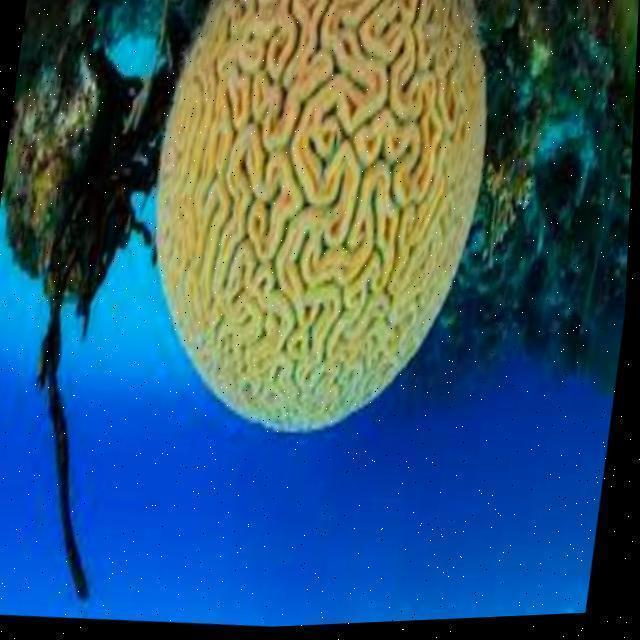Healthy Coral: (158, 0, 496, 433)
